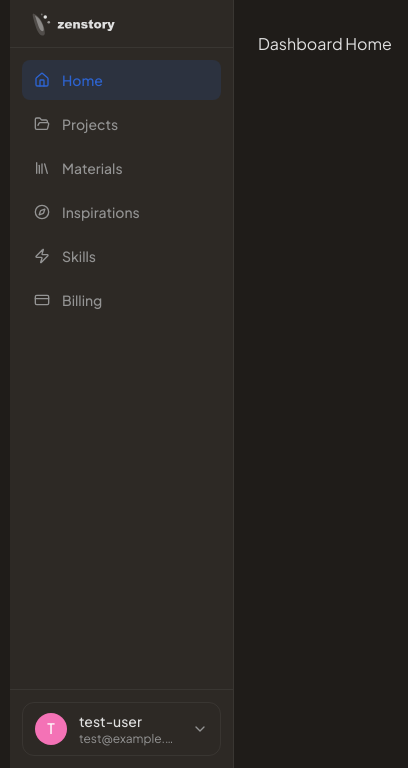
Test: Dashboard user panel and quick switches › renders user panel with elevated z-index so quick settings stay clickable
Click the button with aria-label "Open user settings panel": (122, 729) [22,702,221,756]
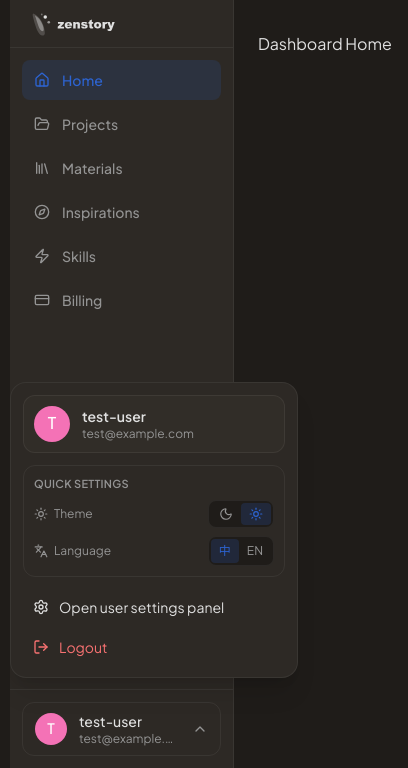
Check: the text "Quick settings" is shown, box [34,476,129,490]
